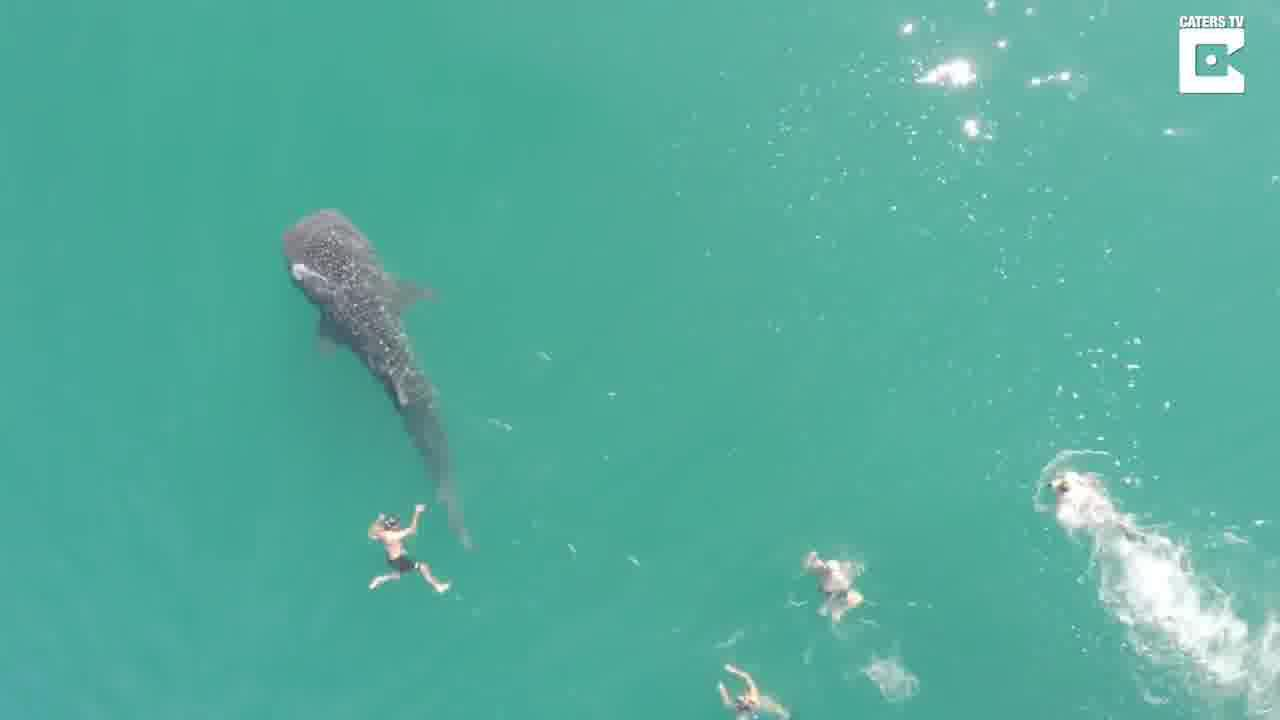human: (364, 508, 466, 606), (798, 550, 868, 621), (717, 655, 774, 720)
